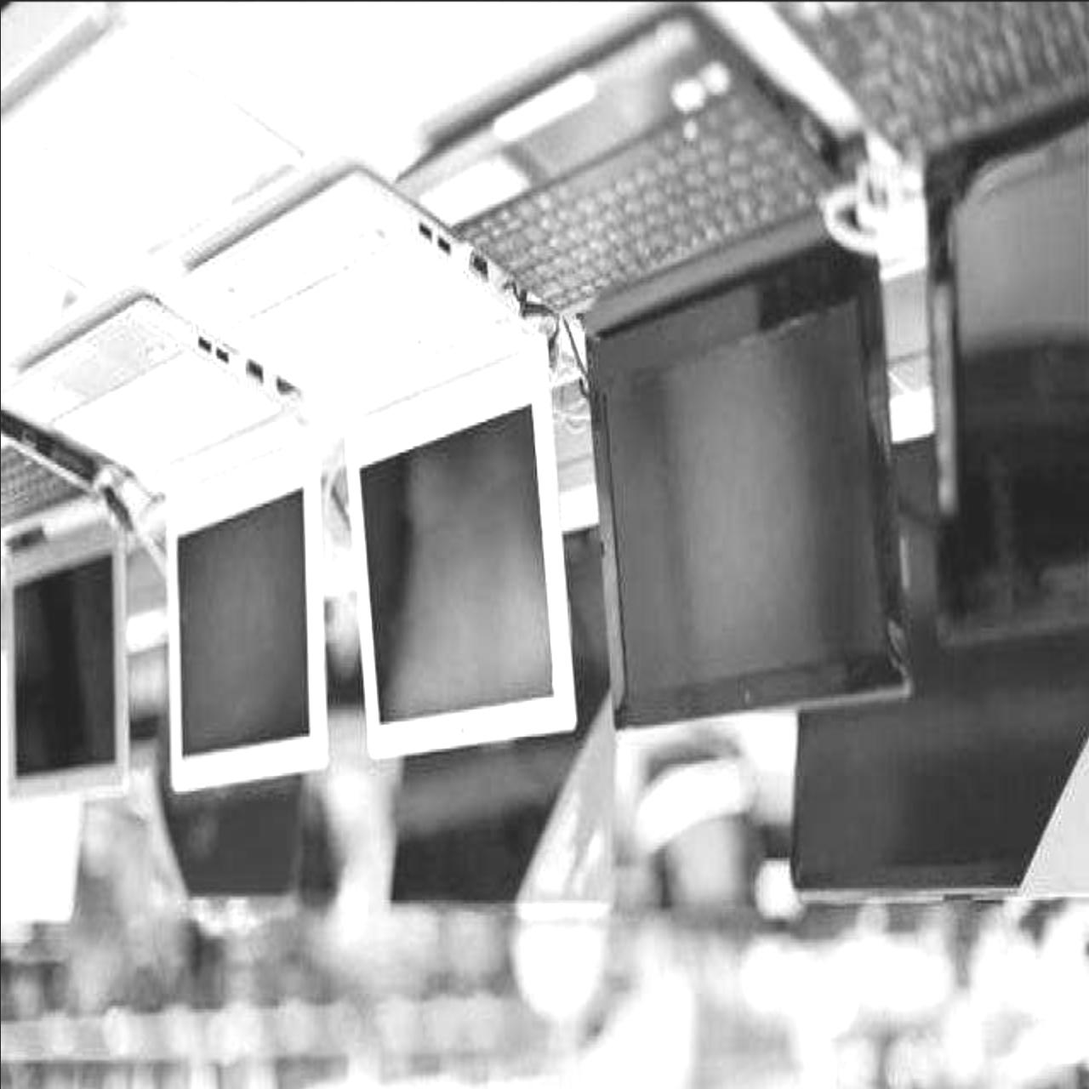laptop: (487, 37, 902, 687), (196, 180, 556, 726), (0, 310, 328, 779), (898, 0, 1089, 562)
